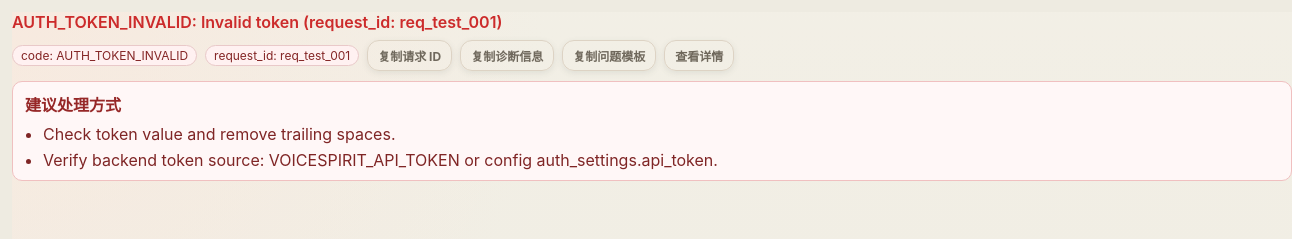
Scenario: ErrorNotice › copies request_id and resets button label after timeout
Click the button "复制请求 ID" at (410, 56), box [367,40,452,71]
Wait 1500 ms
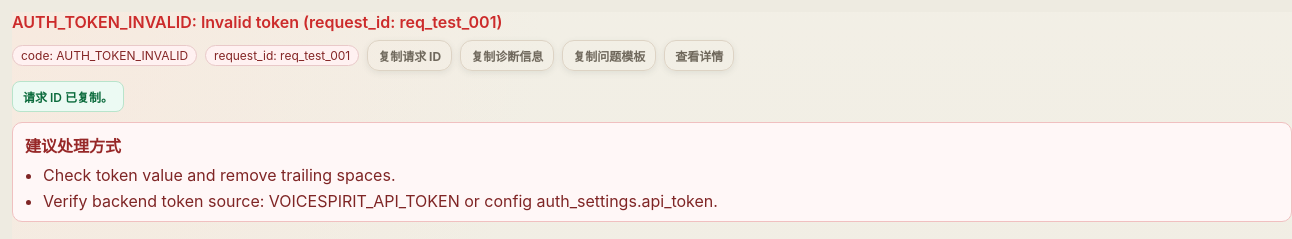
Expected: the message reads "请求 ID 已复制。", [23,90,113,105]
